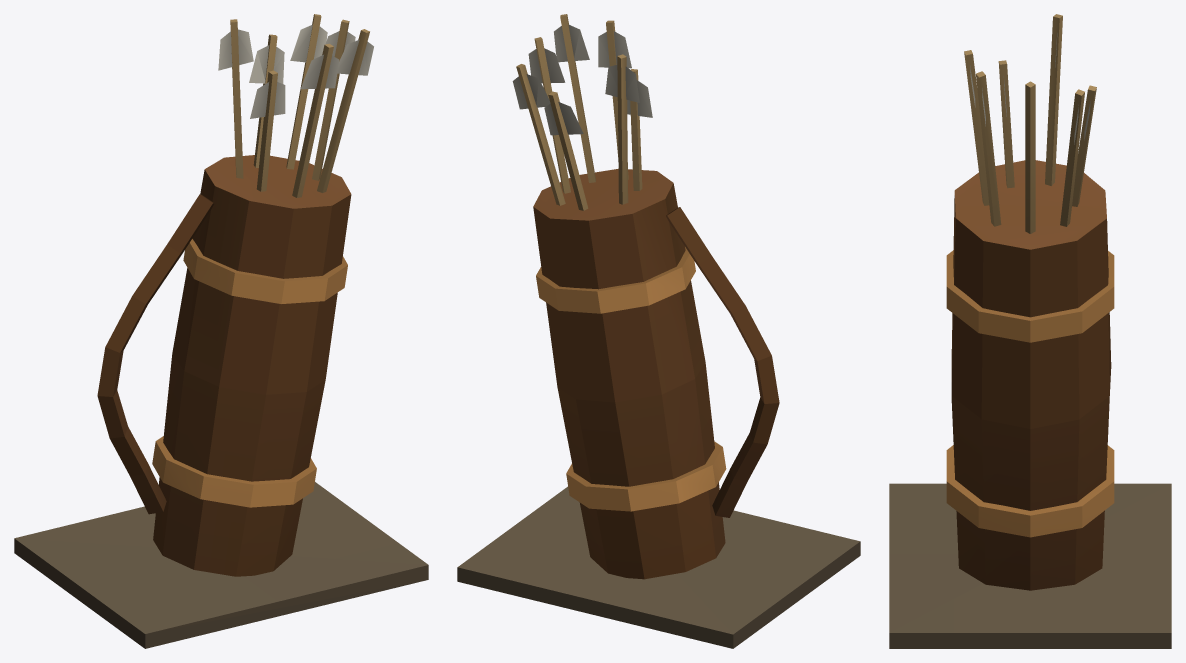
3 views of the same model, side by side, from view 1: azimuth 30°, elevation 25°; view 2: azimuth 150°, elevation 25°; view 3: azimuth 270°, elevation 25° (orthographic). The views are drawn at different scales.
Visible parts, largest first — view 1: base; view 2: base; view 3: base.
Boxes of the visible parts, x1,y1,x2,y2 form: base: [14, 14, 428, 648]; base: [457, 14, 860, 648]; base: [889, 14, 1171, 648].
Bounding box in the file's own units: 0.4 × 0.7148 × 0.32.
